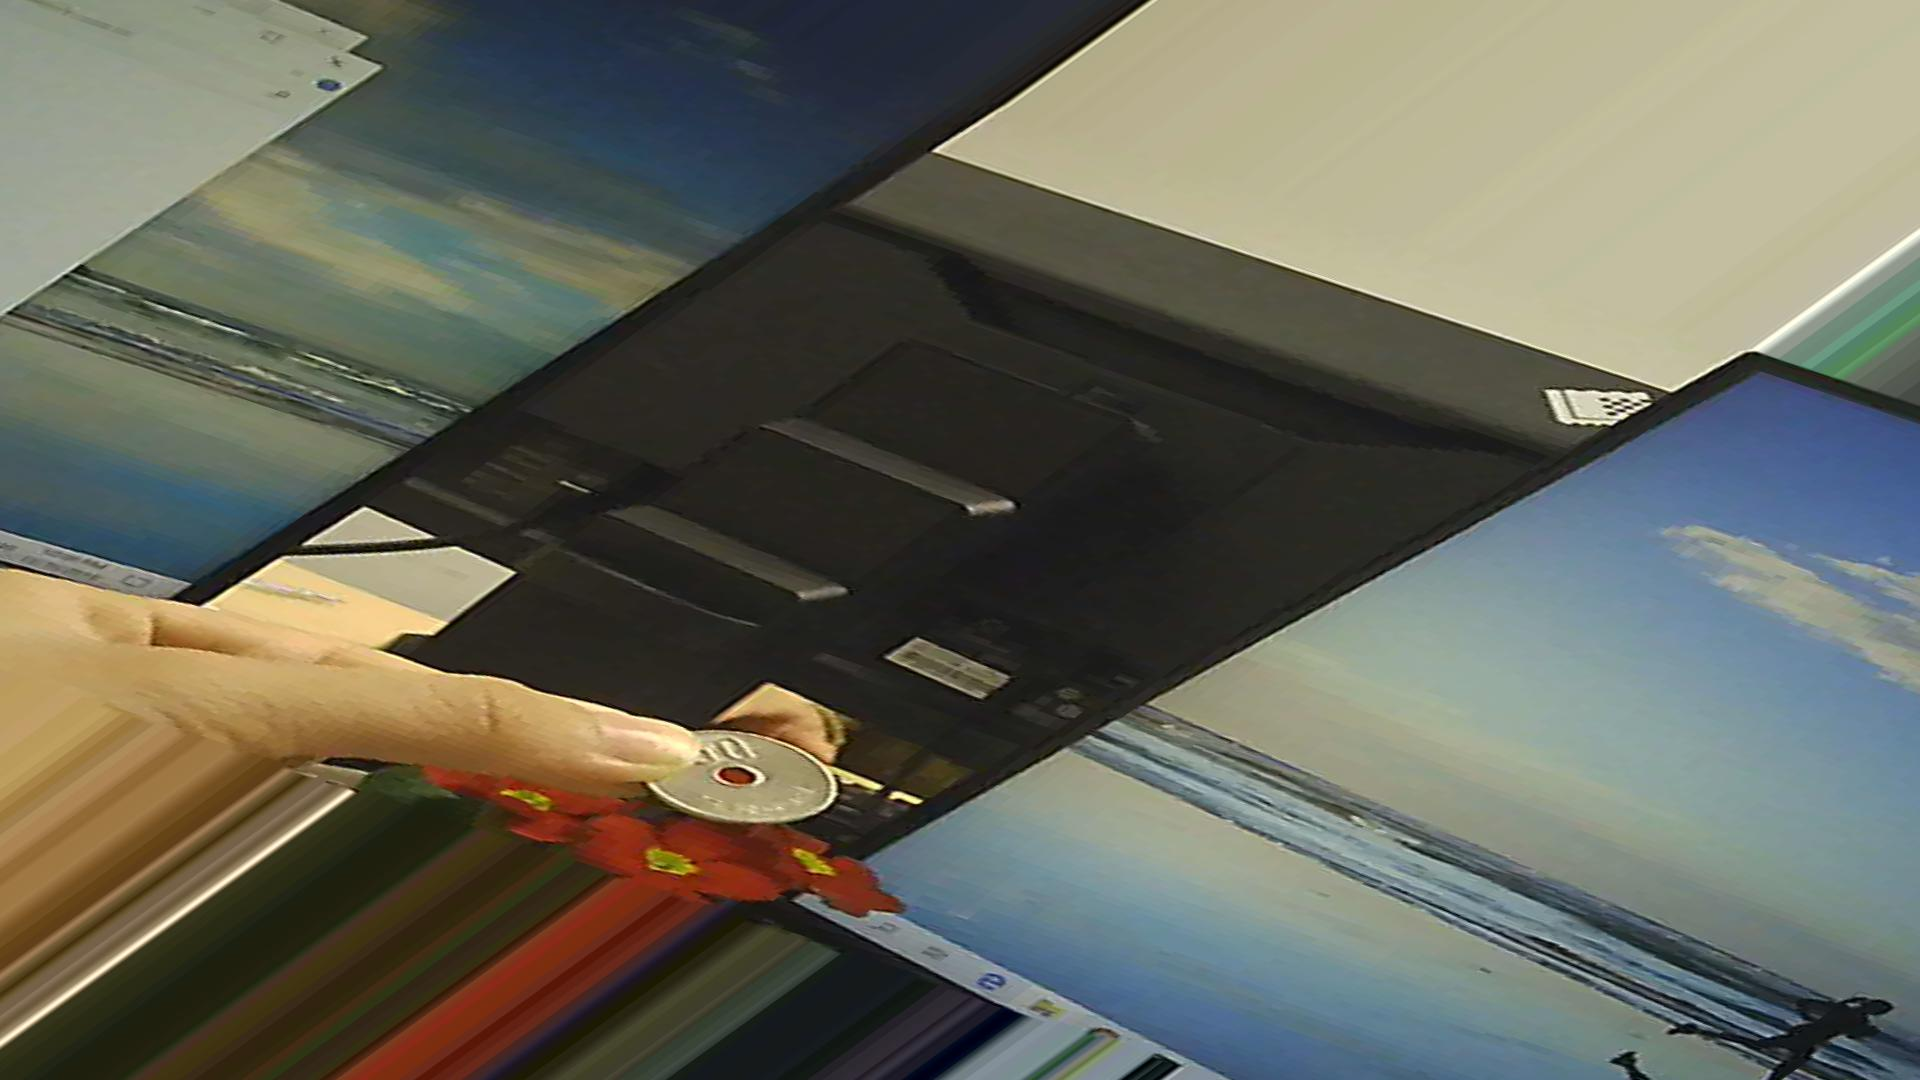50 Yen: (655, 719, 847, 831)
